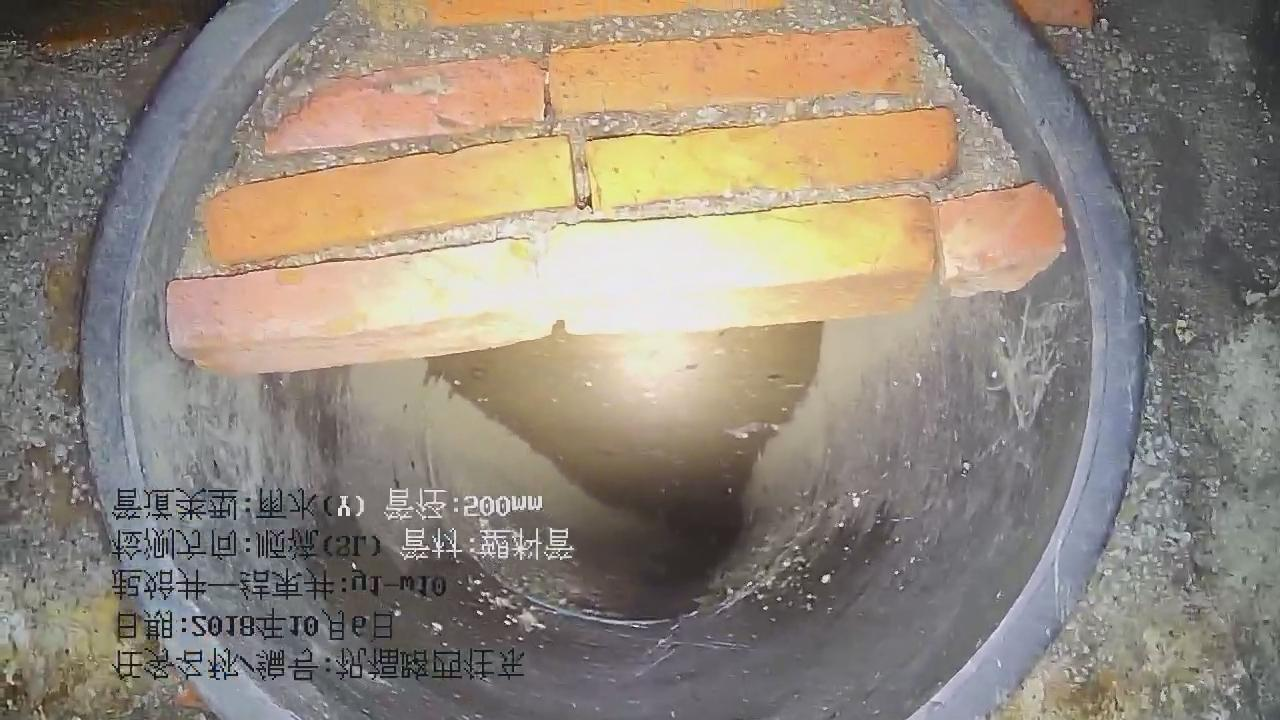CQBG: (167, 1, 1064, 373)
